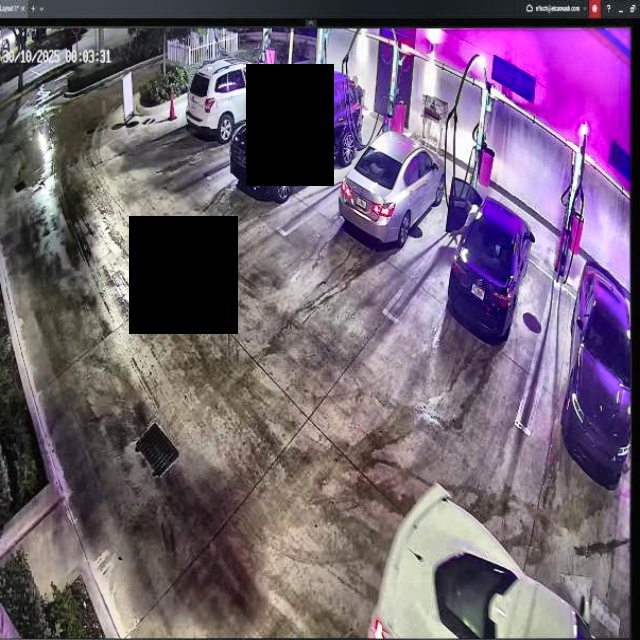Car: (228, 66, 361, 199), (447, 174, 534, 341), (339, 132, 445, 243)
